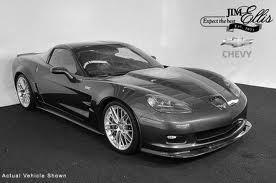car: (11, 38, 256, 168)
